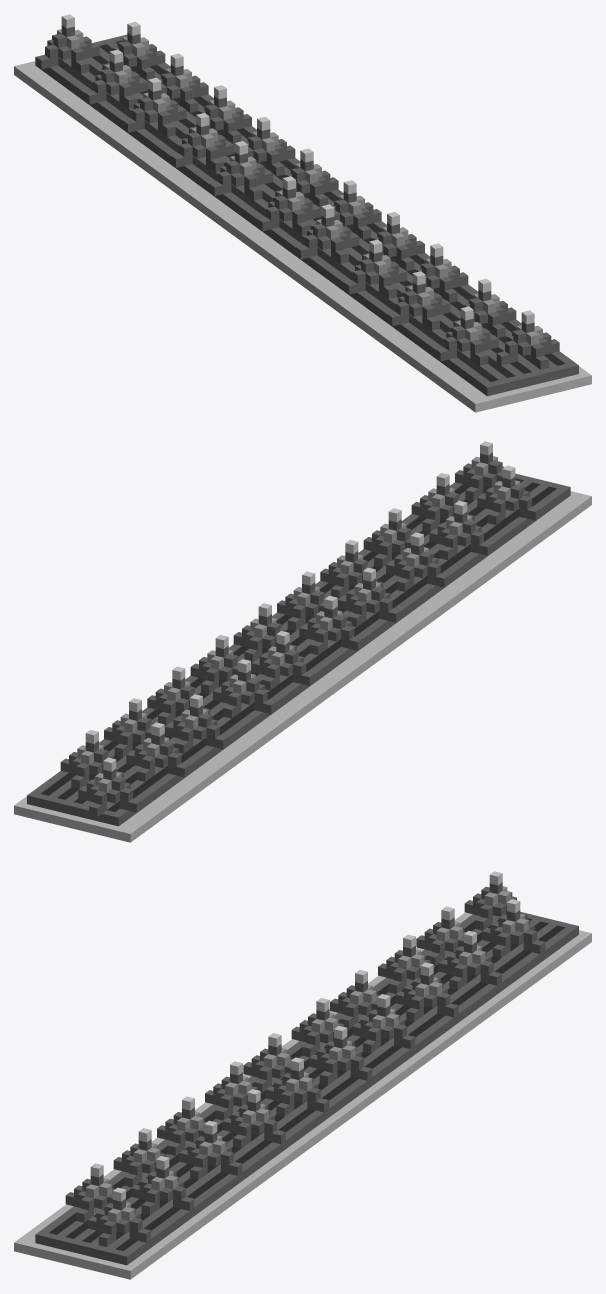
Rendered from Spikes.obj.
The picture shows the model from 3 angles, top to bottom: view 1: azimuth 30°, elevation 25°; view 2: azimuth 150°, elevation 25°; view 3: azimuth 330°, elevation 25°; orthographic projection.
Parts seen in each view (by area): view 1: Spikes; view 2: Spikes; view 3: Spikes.
Boxes of the visible parts, left/top/right/bottom form: Spikes: left=14, top=14, right=591, bottom=412; Spikes: left=14, top=441, right=591, bottom=842; Spikes: left=14, top=871, right=591, bottom=1279.
Size of the model in its own units: 2.1 by 1.05 by 14.4.
1 material, 1 textured.
